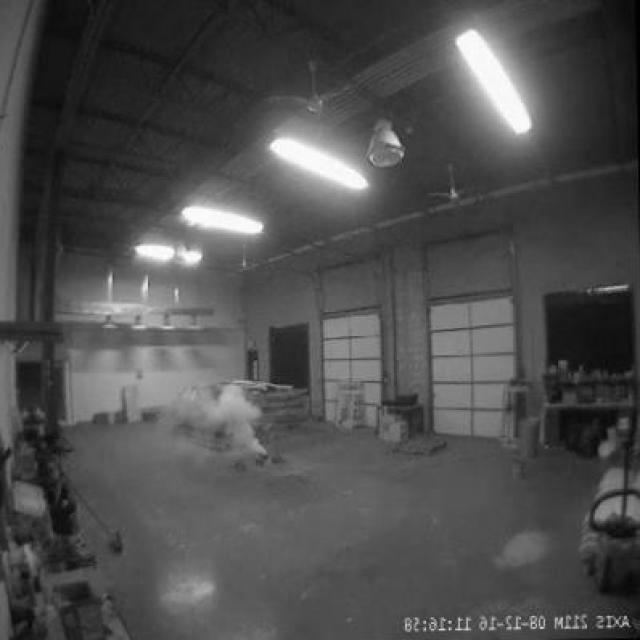fire: (164, 374, 275, 469)
